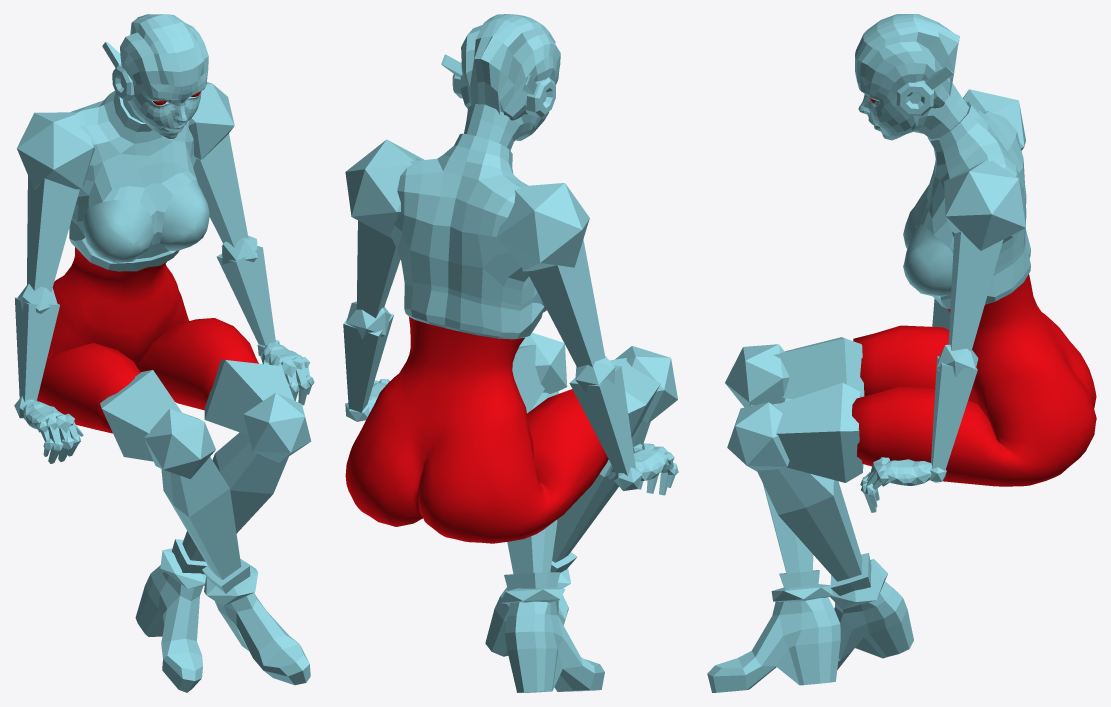
The model's file is Caroline_sitting.fbx.
3 views of the same model, side by side, from view 1: azimuth 30°, elevation 25°; view 2: azimuth 150°, elevation 25°; view 3: azimuth 270°, elevation 25° (orthographic). The views are drawn at different scales.
Visible parts, largest first — view 1: Caroline_sitting; view 2: Caroline_sitting; view 3: Caroline_sitting.
Boxes of the visible parts, x1,y1,x2,y2 form: Caroline_sitting: [14, 14, 314, 692]; Caroline_sitting: [343, 14, 678, 692]; Caroline_sitting: [707, 14, 1096, 692].
Bounding box in the file's own units: 79.29 × 177 × 92.93.
